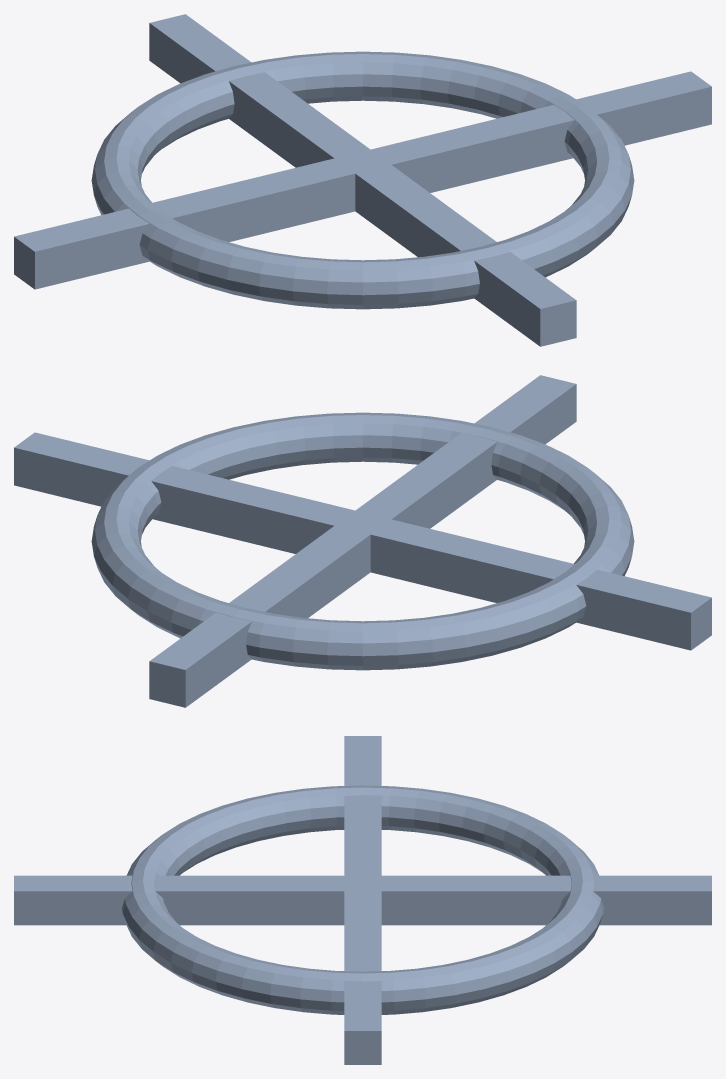
Rendered from Crosshair.dae.
3 renders of one model, top to bottom at view 1: azimuth 30°, elevation 25°; view 2: azimuth 150°, elevation 25°; view 3: azimuth 270°, elevation 25°, orthographic. The views are drawn at different scales.
Visible parts, largest first — view 1: Torus, Cube.000, Cube.010; view 2: Torus, Cube.000, Cube.010; view 3: Torus, Cube.010, Cube.000.
Part boxes in pixels (<box>): Torus: <box>91,51,634,309</box>; Cube.000: <box>14,71,711,289</box>; Cube.010: <box>149,14,576,346</box>; Torus: <box>91,412,634,670</box>; Cube.000: <box>14,432,711,650</box>; Cube.010: <box>149,375,576,707</box>; Torus: <box>122,785,603,1014</box>; Cube.010: <box>14,875,711,925</box>; Cube.000: <box>344,736,381,1064</box>.
Size of the model in its own units: 3.17 by 3.17 by 0.2.
